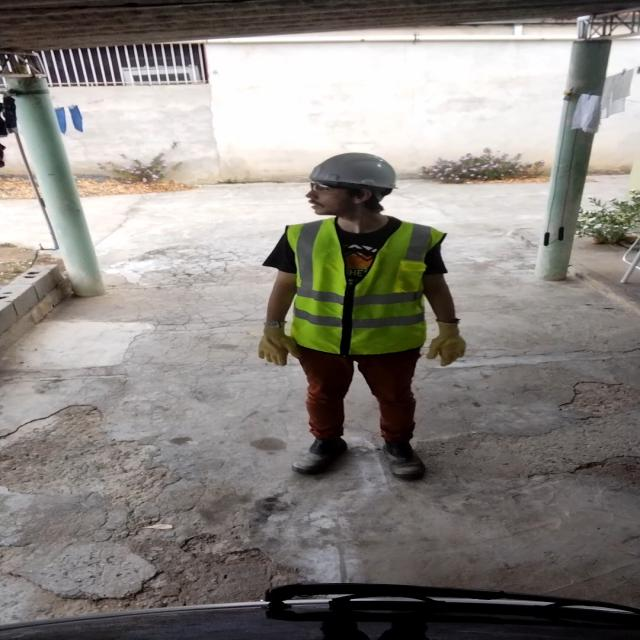glove: (258, 314, 314, 366), (415, 318, 471, 364)
helmet: (294, 152, 411, 201)
pants: (300, 352, 420, 436)
vest: (280, 219, 447, 360)
